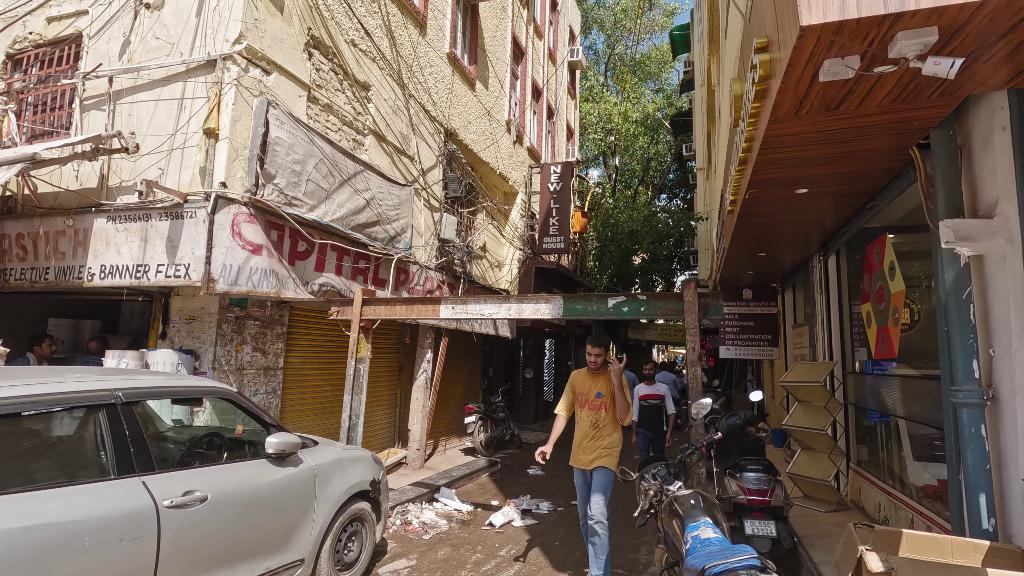garbage: (483, 502, 521, 529), (510, 495, 557, 514)
